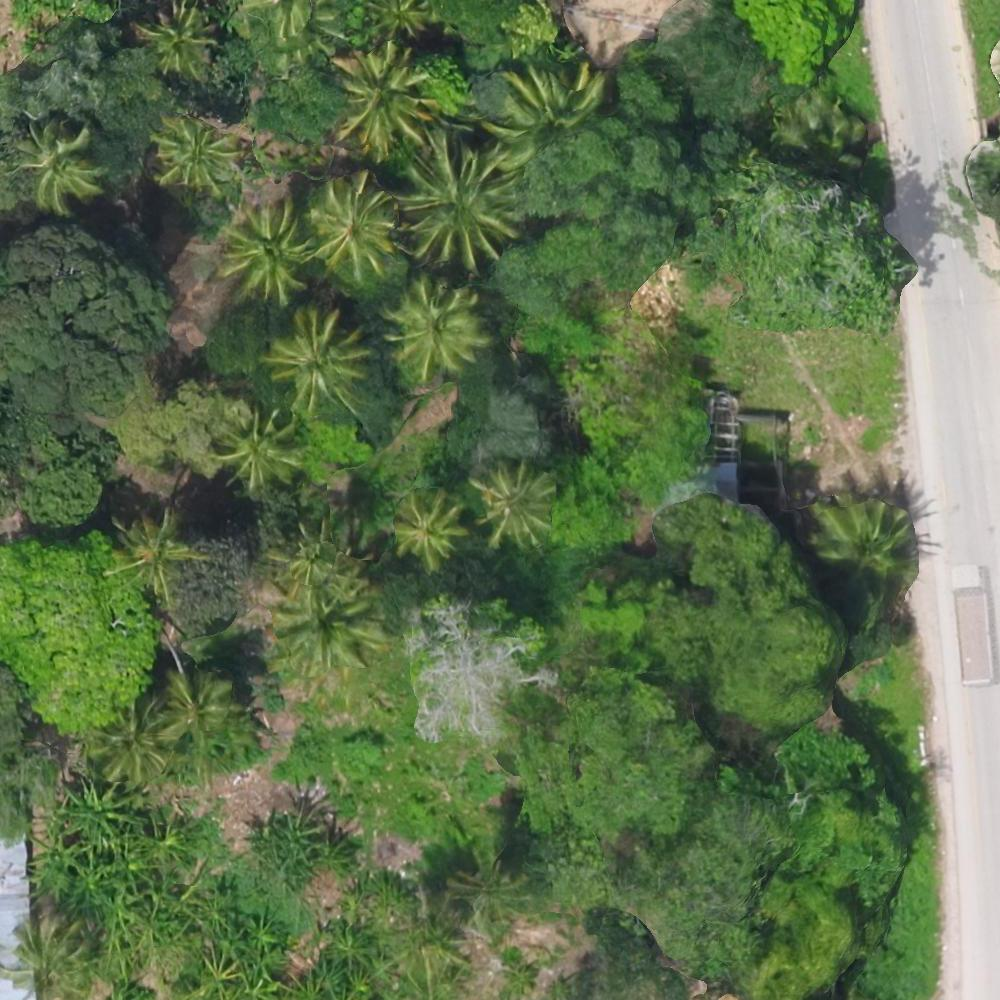Palm: (397, 139, 519, 265), (330, 48, 432, 148), (269, 584, 377, 678), (384, 277, 480, 376), (270, 309, 365, 405), (308, 178, 397, 263), (471, 460, 553, 549), (221, 208, 304, 294), (216, 415, 300, 494), (18, 125, 97, 206), (387, 488, 463, 565), (155, 115, 233, 189), (140, 9, 215, 83), (116, 517, 187, 594), (157, 672, 233, 743)
